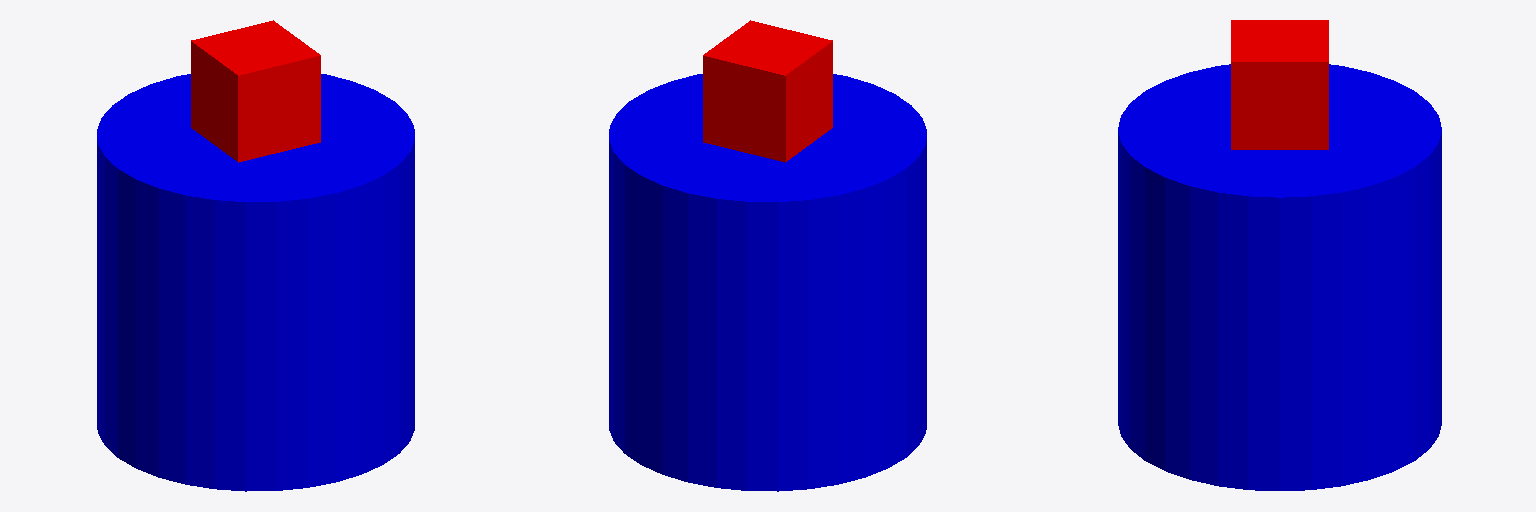
robot.urdf — simple_robot:
<?xml version="1.0"?>
<robot name="simple_robot">

	<!-- Link definitions -->
	<link name="base_link">
		<visual>
			<geometry>
				<cylinder radius="0.5" length="1.0"/>
			</geometry>
			<material name="blue">
				<color rgba="0 0 1 1"/>
			</material>
		</visual>
	</link>

	<link name="rotating_cube">
		<visual>
			<geometry>
				<box size="0.3 0.3 0.3"/>
			</geometry>
			<material name="red">
				<color rgba="1 0 0 1"/>
			</material>
		</visual>
	</link>

	<!-- Joint definitions -->
	<!-- Revolute joint for the cube to rotate on top of the cylinder -->
	<joint name="rotating_joint" type="revolute">
		<parent link="base_link"/>
		<child link="rotating_cube"/>
		<origin xyz="0 0 0.65" rpy="0 0 0"/>
		<axis xyz="0 0 1"/>
		<limit lower="-1.5708" upper="1.5708" effort="0" velocity="0"/>
	</joint>

</robot>

--- Render facts (derived) ---
Views: 3 orthographic renders of the robot side by side, from view 1: azimuth 30°, elevation 25°; view 2: azimuth 150°, elevation 25°; view 3: azimuth 270°, elevation 25°.
Robot: simple_robot — 2 links, 1 joints (1 revolute); root link base_link; default pose: all joints at 0.
Visible links, largest first — view 1: base_link, rotating_cube; view 2: base_link, rotating_cube; view 3: base_link, rotating_cube.
Boxes of the visible links, box(x1,y1,x2,y2) form: base_link: box(97, 74, 414, 491); rotating_cube: box(191, 20, 320, 162); base_link: box(609, 74, 926, 491); rotating_cube: box(703, 20, 832, 162); base_link: box(1118, 64, 1441, 490); rotating_cube: box(1231, 20, 1328, 149).
Size in the robot's own frame: 1 by 1 by 1.3 metres.
Geometry: primitives only (box / cylinder / sphere), no mesh files.